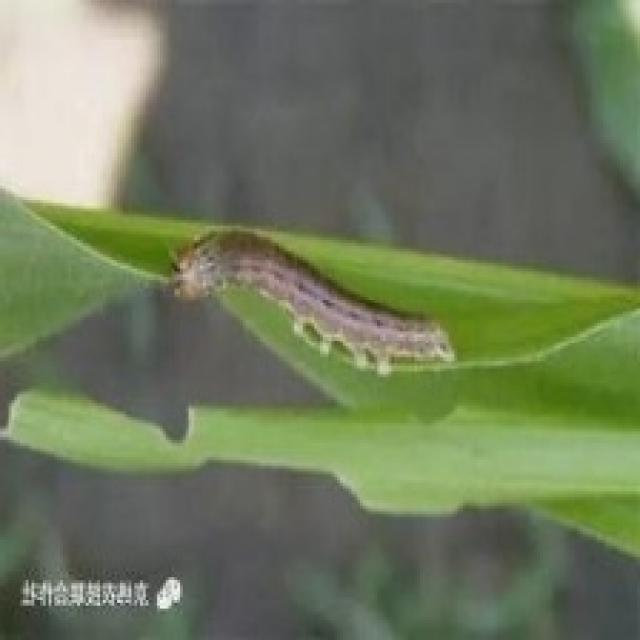Plaga: (153, 216, 467, 384)
